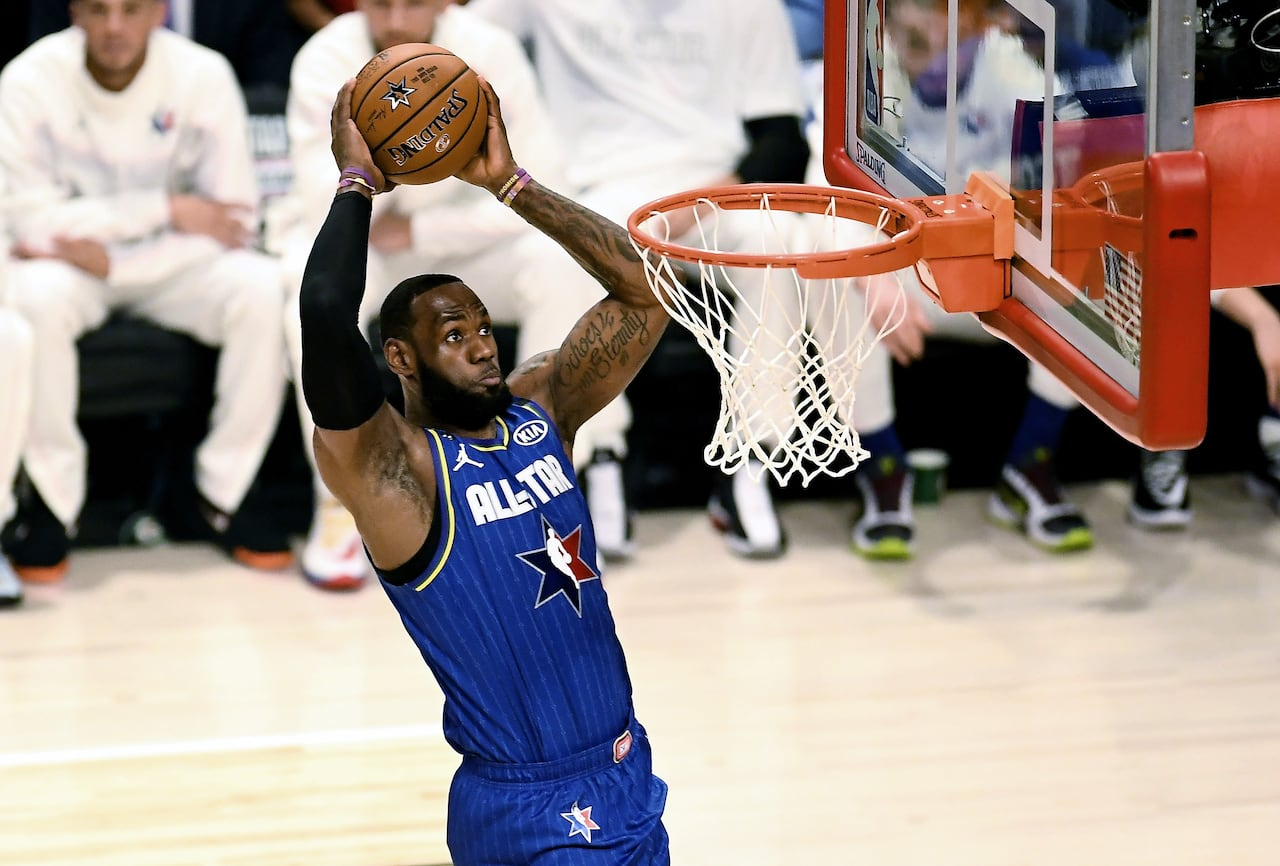b_ball: (336, 33, 488, 189)
basket: (620, 159, 1008, 486)
player: (257, 32, 685, 866)
